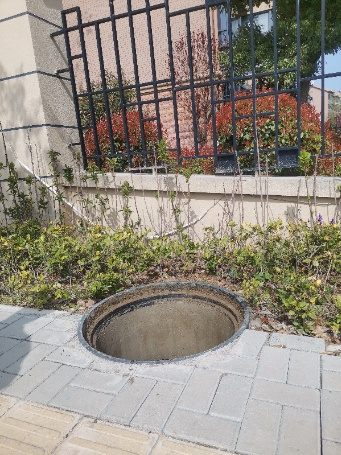lose: (78, 280, 251, 364)
